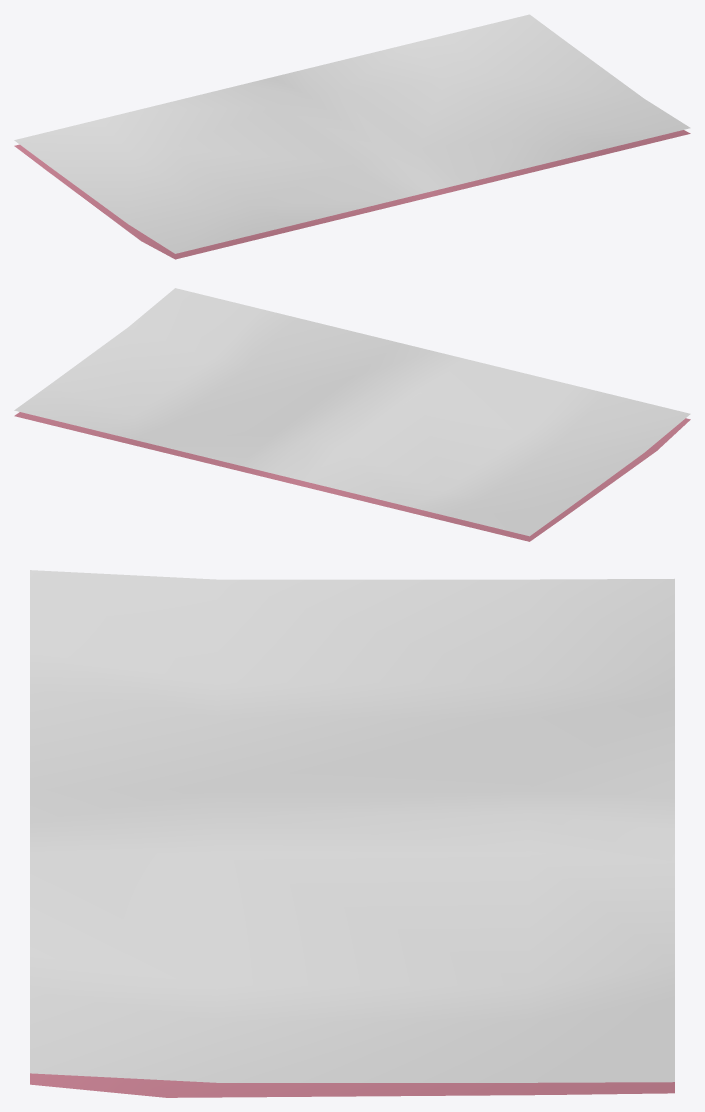
File: CurvedTabRoof.fbx
3 renders of one model, top to bottom at view 1: azimuth 30°, elevation 25°; view 2: azimuth 150°, elevation 25°; view 3: azimuth 270°, elevation 25°, orthographic. The views are drawn at different scales.
Parts seen in each view (by area): view 1: Roof_LOD0; view 2: Roof_LOD0; view 3: Roof_LOD0.
Part boxes in pixels (x1,y1,x2,y2): Roof_LOD0: [14, 14, 690, 259]; Roof_LOD0: [14, 288, 690, 541]; Roof_LOD0: [30, 570, 674, 1097].
Size of what is drawn, in the model's own units: 231 by 12.56 by 125.
